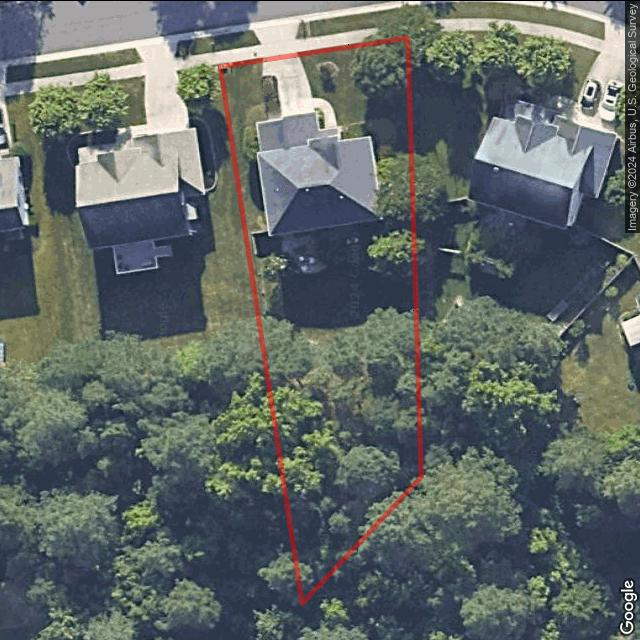Driveway: (262, 53, 315, 116)
Extra-Driveway: (253, 21, 301, 58)
Extra-Lawn: (296, 7, 406, 38), (216, 29, 260, 50)
Extra-Sidewalk: (295, 24, 407, 51), (218, 44, 263, 66)
House: (256, 111, 383, 235)
Lawn: (220, 37, 420, 601)
Other: (262, 313, 422, 600), (270, 222, 361, 271), (240, 76, 282, 163)
Sidewalk: (313, 97, 336, 128)
